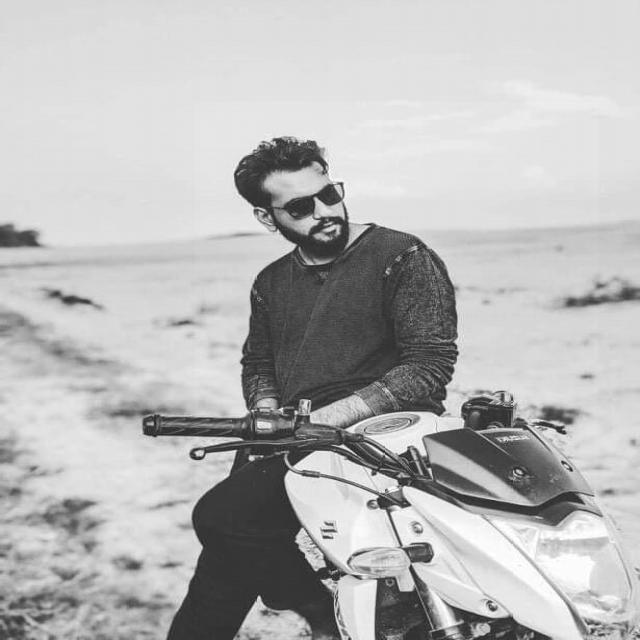No_Helmet: (195, 102, 598, 626)
